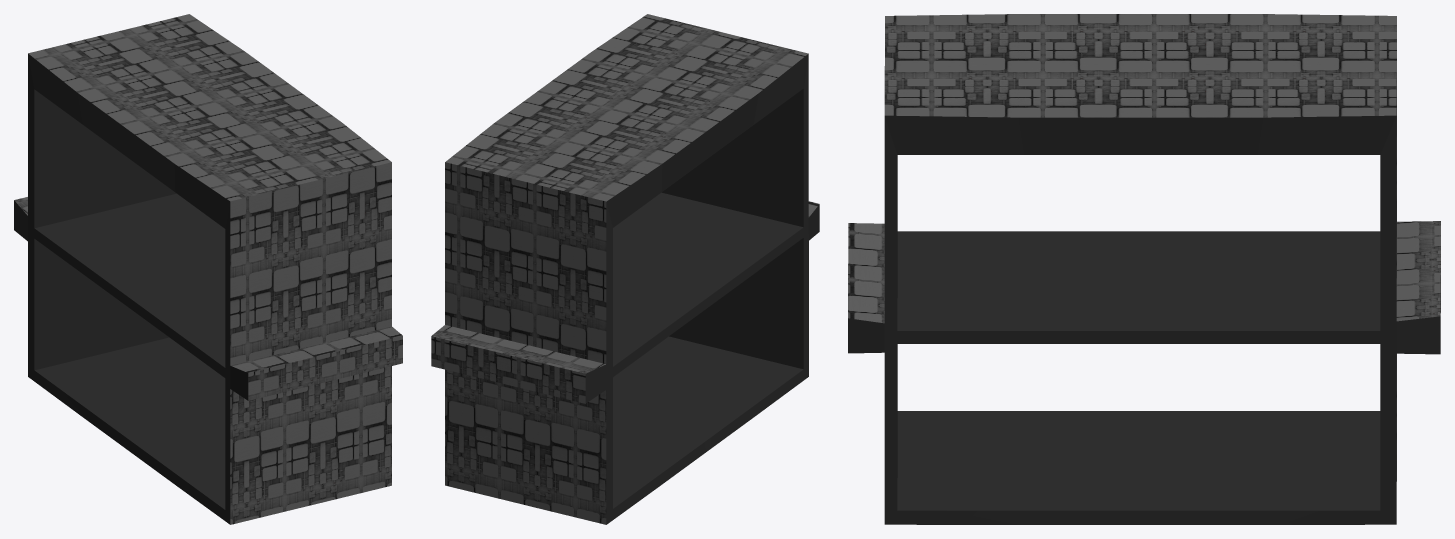
File: Lenght-Corridor-Connector.FBX
3 views of the same model, side by side, from view 1: azimuth 30°, elevation 25°; view 2: azimuth 150°, elevation 25°; view 3: azimuth 270°, elevation 25° (orthographic). The views are drawn at different scales.
Visible parts, largest first — view 1: Lenght-Corridor-Connector; view 2: Lenght-Corridor-Connector; view 3: Lenght-Corridor-Connector.
Boxes of the visible parts, x1,y1,x2,y2 form: Lenght-Corridor-Connector: (14,14,402,524); Lenght-Corridor-Connector: (431,14,819,524); Lenght-Corridor-Connector: (848,14,1440,524).
Bounding box in the file's own units: 6.18 × 14.94 × 11.38.
